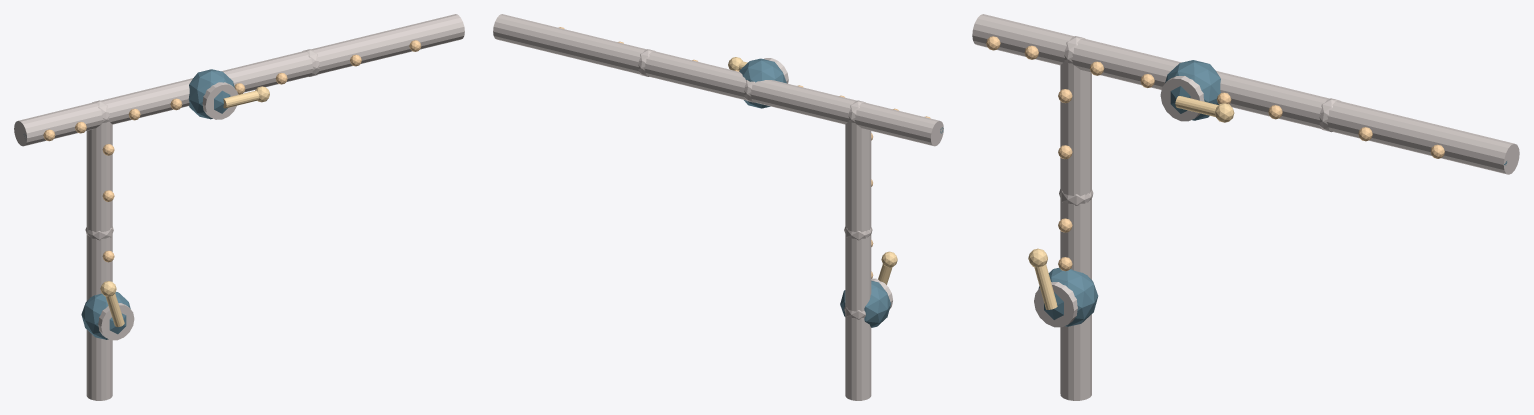
The model's file is plant-10-1.glb.
The picture shows the model from 3 angles, left to right: view 1: azimuth 30°, elevation 25°; view 2: azimuth 150°, elevation 25°; view 3: azimuth 330°, elevation 25°; orthographic projection. The views are drawn at different scales.
Parts seen in each view (by area): view 1: pipe, dark, flow, handle; view 2: pipe, dark, handle; view 3: pipe, dark, flow, handle.
Part boxes in pixels (<box>): pipe: <box>14,14,464,400</box>; dark: <box>23,69,234,339</box>; flow: <box>43,40,421,262</box>; handle: <box>100,86,269,327</box>; pipe: <box>493,14,943,400</box>; dark: <box>739,58,943,327</box>; handle: <box>728,57,897,284</box>; pipe: <box>972,14,1519,400</box>; dark: <box>1038,60,1507,326</box>; flow: <box>986,36,1444,271</box>; handle: <box>1028,96,1234,309</box>.
Size of the model in its own units: 2.77 by 1.84 by 0.343.
